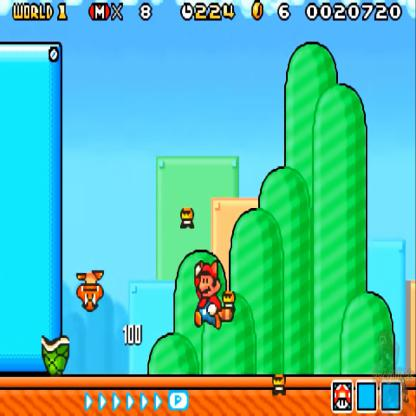Goomba: (75, 263, 102, 320)
Mario: (192, 256, 223, 333)
caparazon: (41, 334, 74, 372)
moneda: (250, 0, 266, 24)
